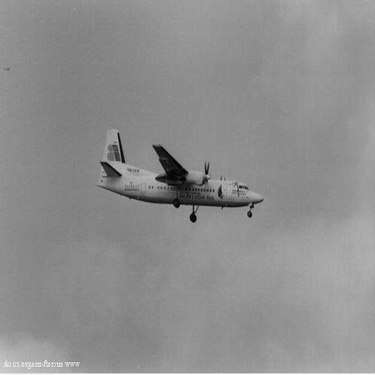airplane: (57, 115, 282, 239)
